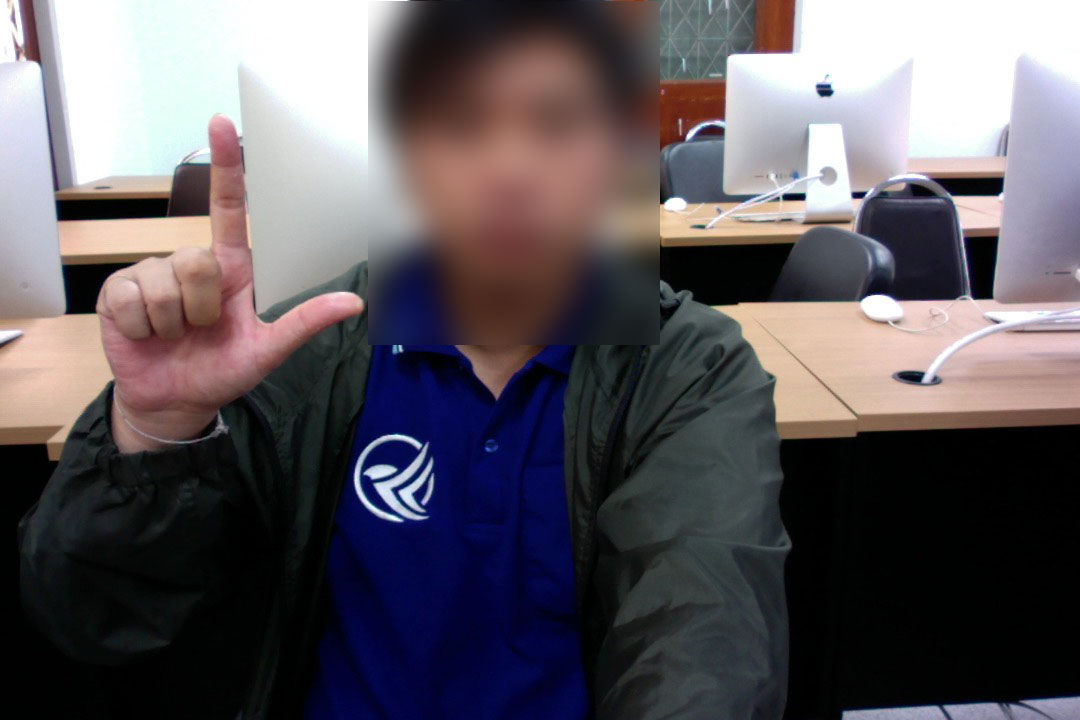lor: (72, 120, 373, 417)
